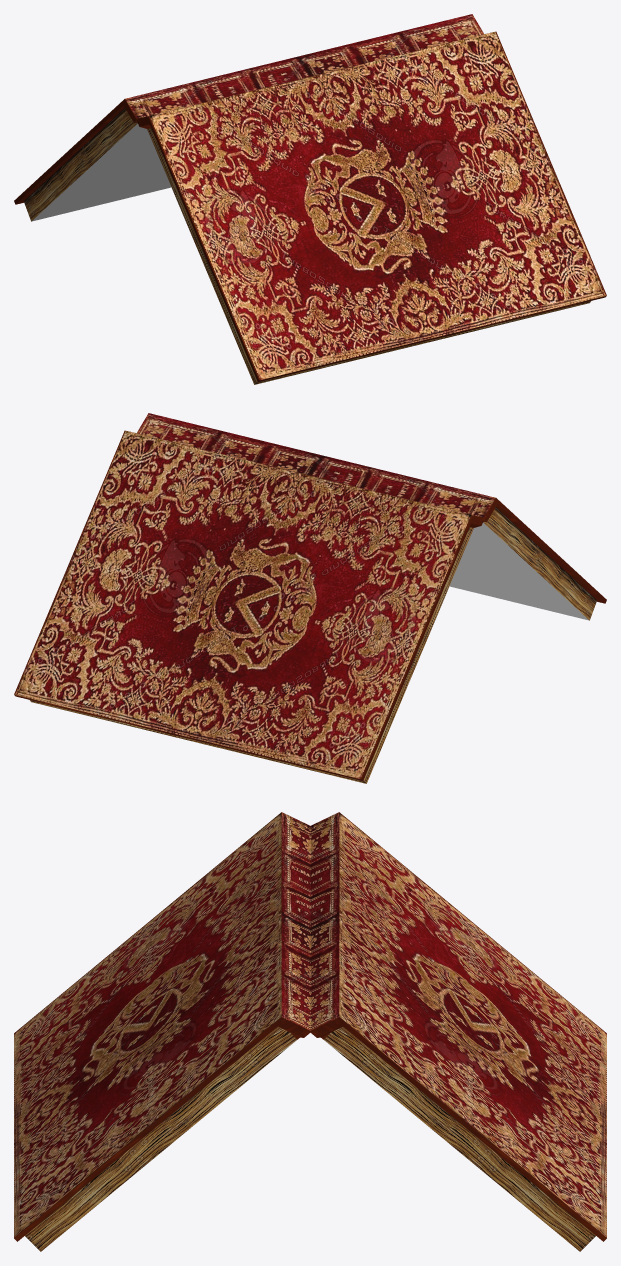
File: Flying_Book_texute.fbx
The picture shows the model from 3 angles, top to bottom: view 1: azimuth 30°, elevation 25°; view 2: azimuth 150°, elevation 25°; view 3: azimuth 270°, elevation 25°; orthographic projection. The views are drawn at different scales.
Visible parts, largest first — view 1: Cube.001, Cube.002; view 2: Cube.002, Cube.001; view 3: Cube.001, Cube.002.
Boxes of the visible parts, x1,y1,x2,y2 form: Cube.001: (136,31,606,384); Cube.002: (14,14,483,221); Cube.002: (14,430,484,783); Cube.001: (137,413,606,620); Cube.001: (14,812,311,1251); Cube.002: (310,812,606,1251).
Size of the model in its own units: 268 by 145 by 327.
